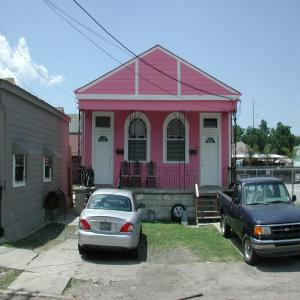Vehicle-registration-plate: (101, 222, 113, 231)
